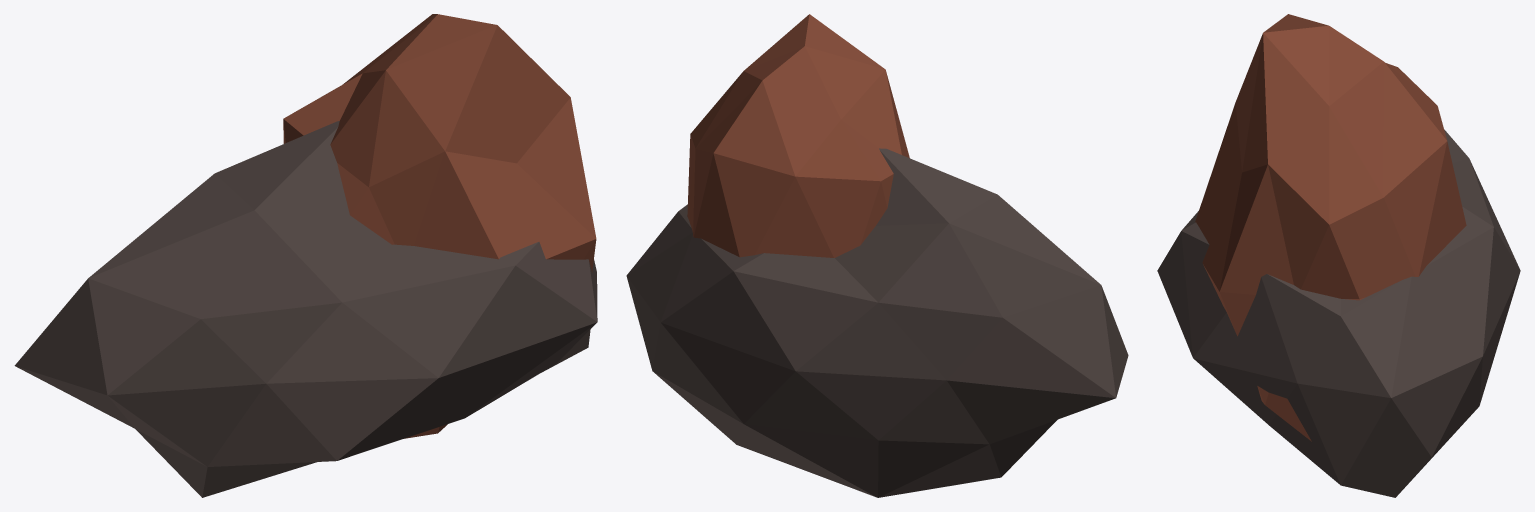
File: mars_rock_formation.glb
3 renders of one model, left to right at view 1: azimuth 30°, elevation 25°; view 2: azimuth 150°, elevation 25°; view 3: azimuth 270°, elevation 25°, orthographic. The views are drawn at different scales.
Visible parts, largest first — view 1: FormationBase, FormationFace; view 2: FormationBase, FormationFace; view 3: FormationFace, FormationBase.
Boxes of the visible parts, <box> form: FormationBase: <box>14,121,597,497</box>; FormationFace: <box>283,14,596,438</box>; FormationBase: <box>626,148,1128,497</box>; FormationFace: <box>687,14,909,257</box>; FormationFace: <box>1195,14,1466,441</box>; FormationBase: <box>1157,129,1520,497</box>.
Bounding box in the file's own units: 5.71 × 4.38 × 3.14.
